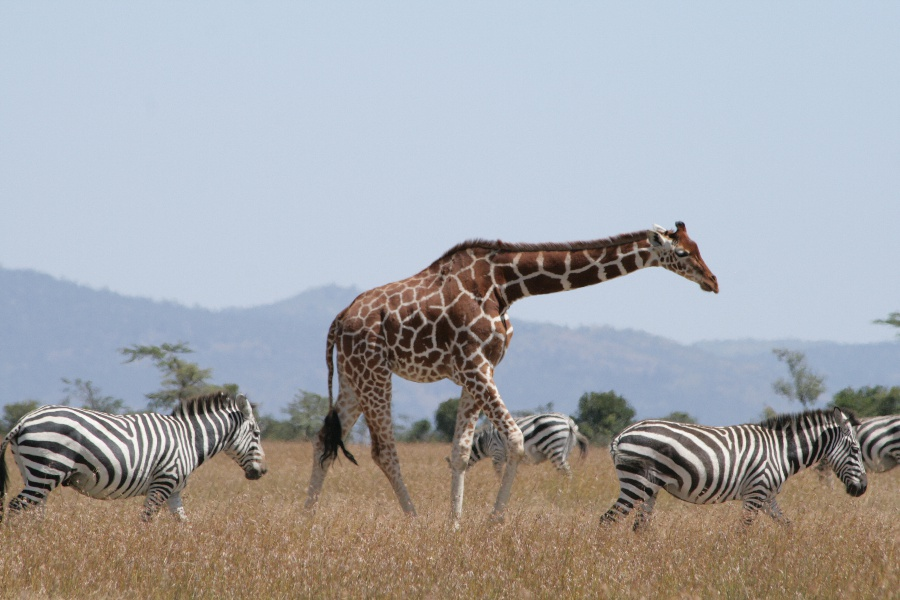giraffe: (276, 207, 726, 507)
